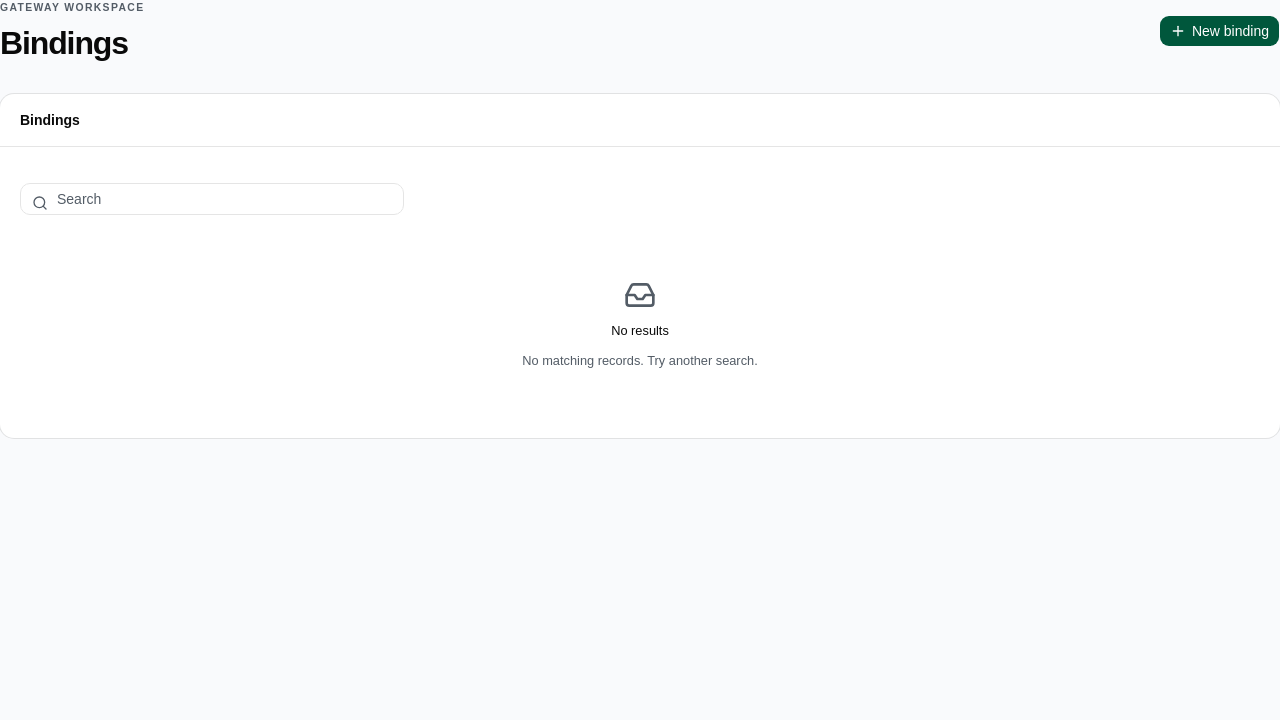
Test case: extension and account drafts › preserves bindings input after a failed mutation
Click the button "New binding": (1219, 31) left=1159, top=15, right=1279, bottom=47
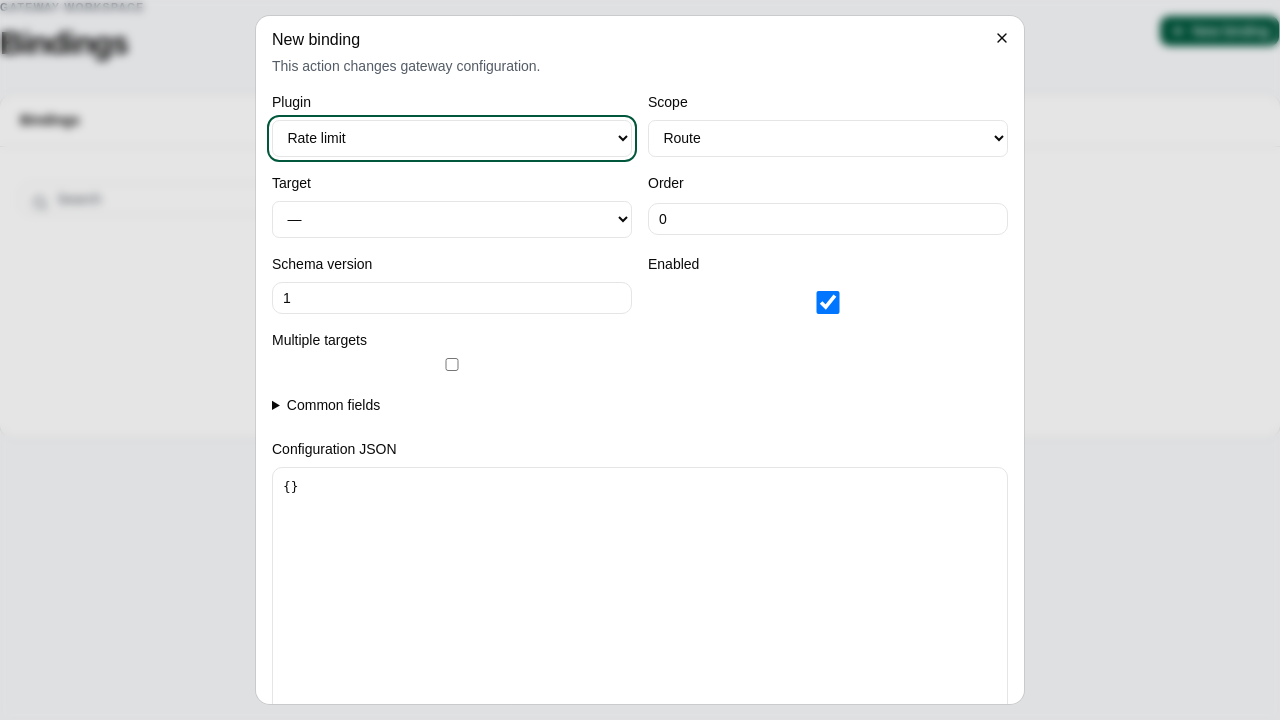
Replace the text in the number field labelled "Order" with "42": (828, 219) left=648, top=203, right=1008, bottom=235
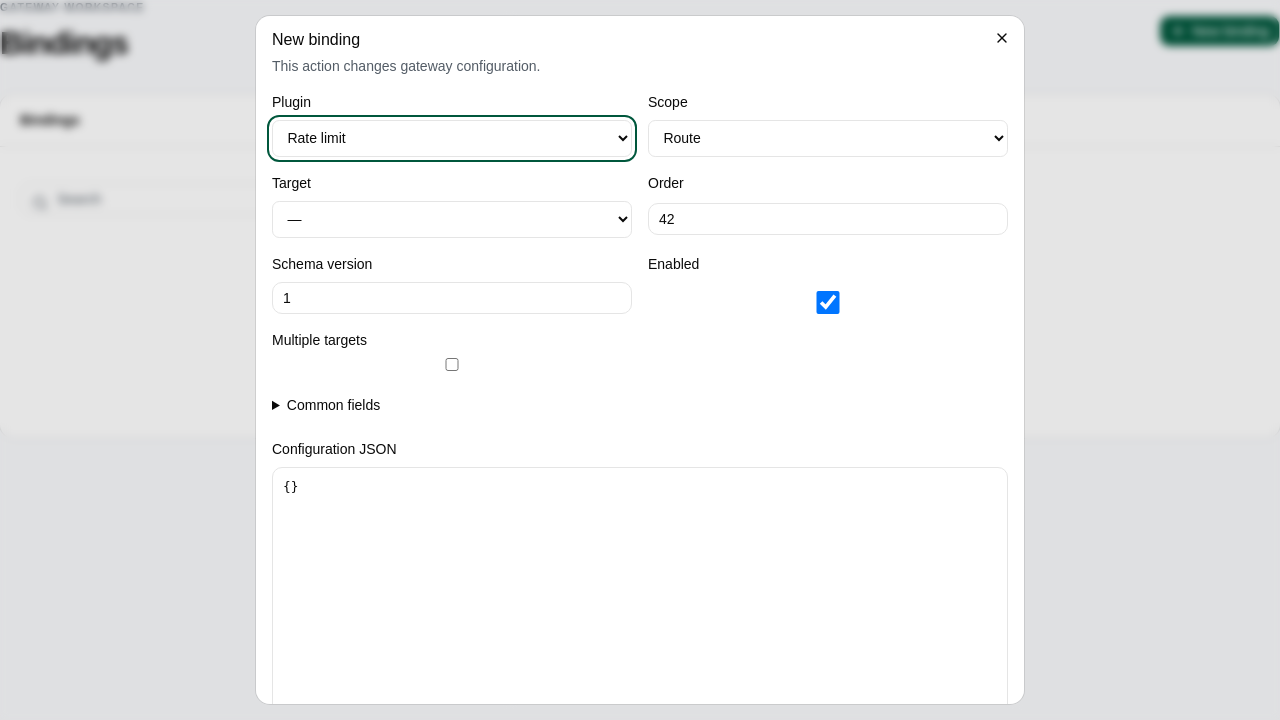
Select "demo" in the dropdown labelled "Target": (452, 219) left=272, top=201, right=632, bottom=238
(page scrolled)
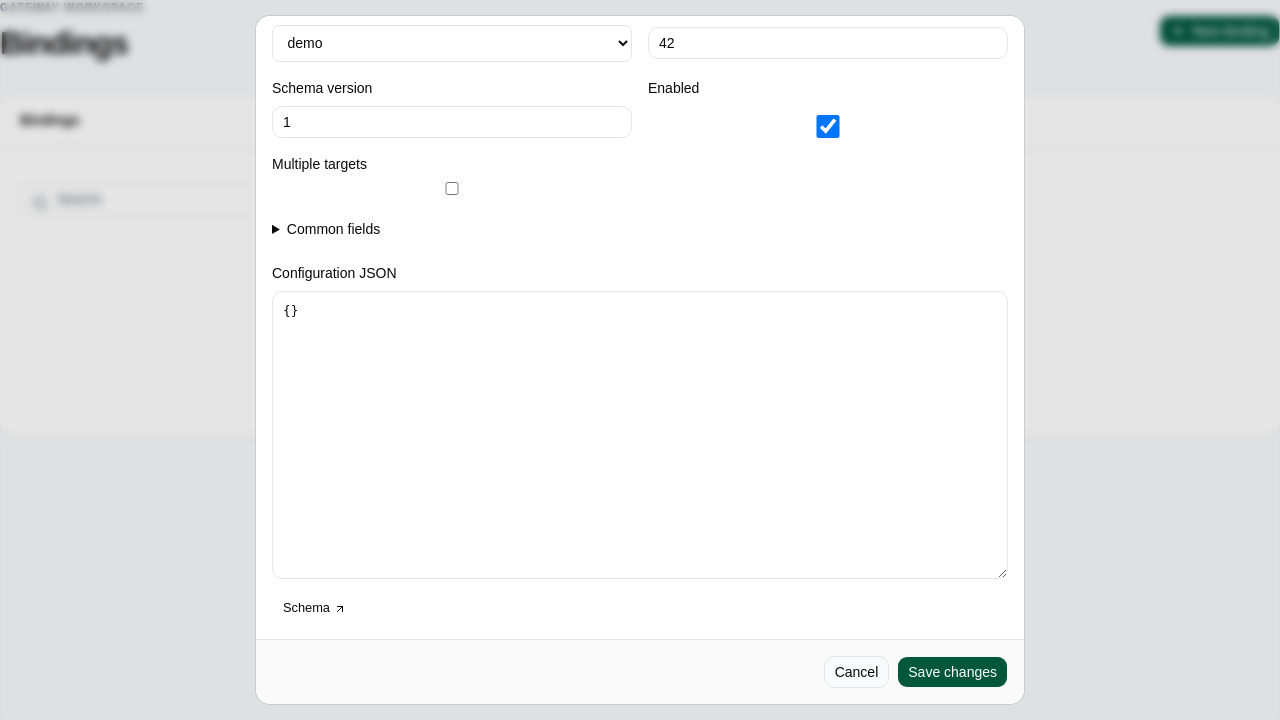
Click the button "Save changes": (953, 672) left=897, top=656, right=1008, bottom=688
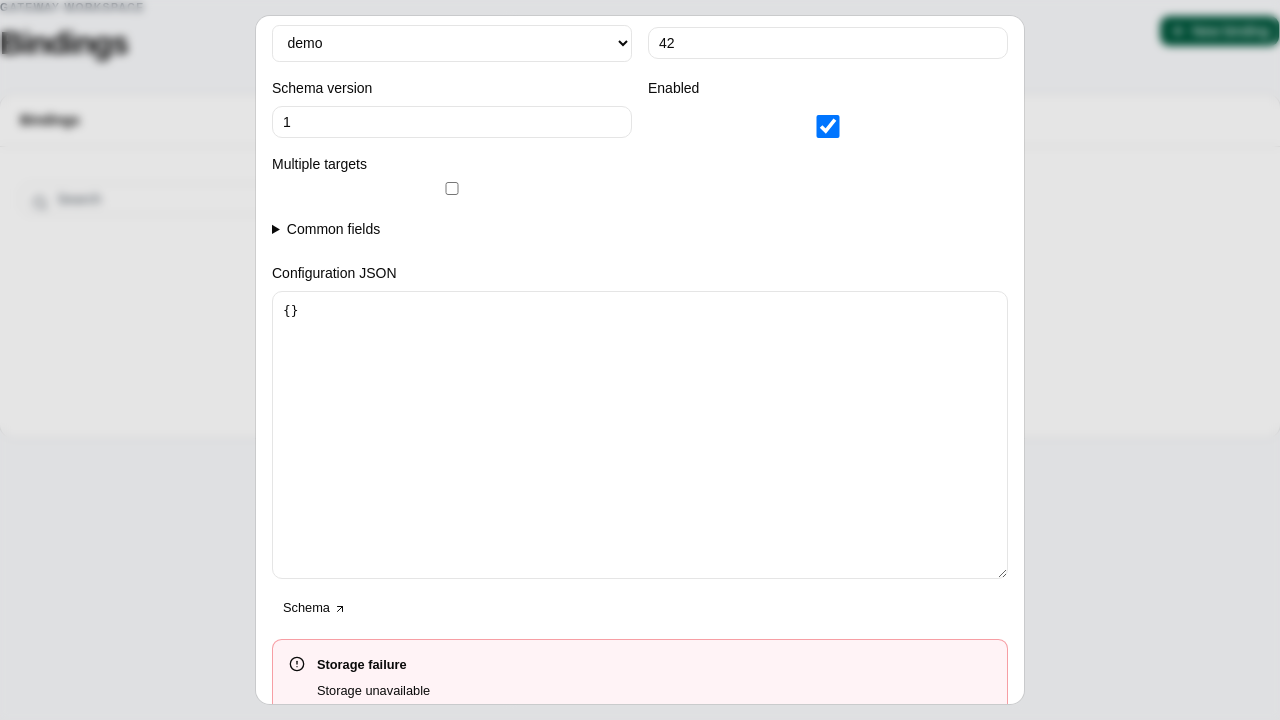
Check: the message shows "Storage unavailable", box left=317, top=683, right=430, bottom=698
